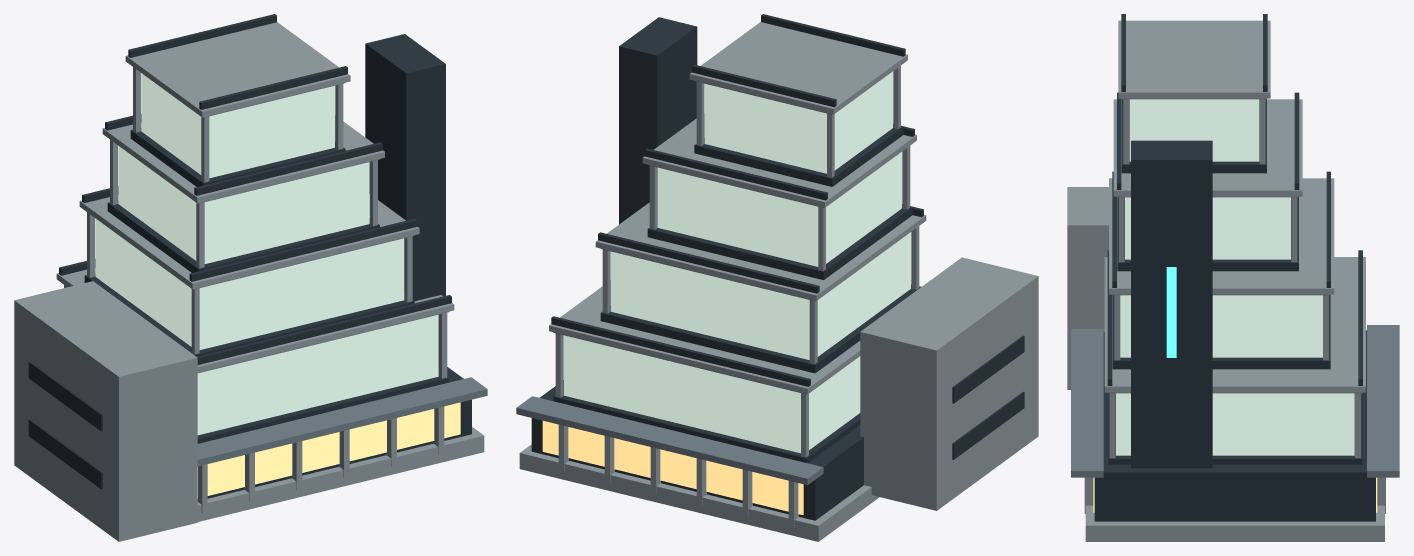
The model's file is vrx_city_services_b_LOD1.fbx.
3 views of the same model, side by side, from view 1: azimuth 30°, elevation 25°; view 2: azimuth 150°, elevation 25°; view 3: azimuth 270°, elevation 25° (orthographic). The views are drawn at different scales.
Visible parts, largest first — view 1: vrx_city_services_b_LOD1; view 2: vrx_city_services_b_LOD1; view 3: vrx_city_services_b_LOD1.
Part boxes in pixels (box(x1,y1,x2,y2)): vrx_city_services_b_LOD1: box(14, 14, 487, 541); vrx_city_services_b_LOD1: box(516, 14, 1038, 541); vrx_city_services_b_LOD1: box(1067, 14, 1399, 541).
Size of the model in its own units: 47.7 by 48.5 by 36.6.
